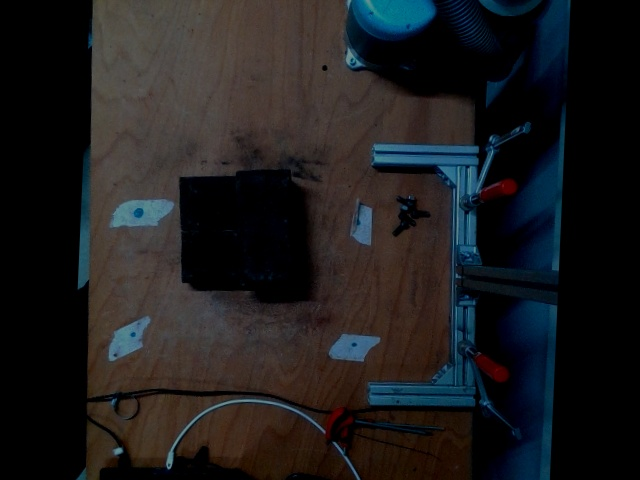brick: (238, 170, 292, 282)
